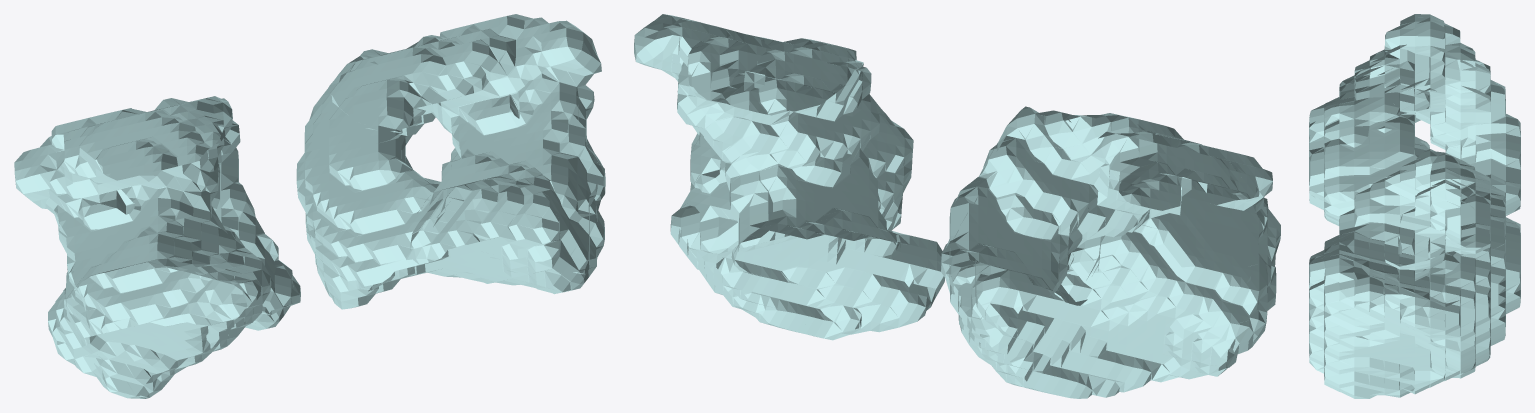
File: VFB_00102171.glb
3 views of the same model, side by side, from view 1: azimuth 30°, elevation 25°; view 2: azimuth 150°, elevation 25°; view 3: azimuth 270°, elevation 25° (orthographic). The views are drawn at different scales.
Visible parts, largest first — view 1: VFB_00102171; view 2: VFB_00102171; view 3: VFB_00102171.
Boxes of the visible parts, box(x1,y1,x2,y2) form: VFB_00102171: box(14, 14, 605, 398); VFB_00102171: box(634, 14, 1280, 398); VFB_00102171: box(1309, 14, 1520, 398).
Bounding box in the file's own units: 0.1413 × 0.0583 × 0.055.
